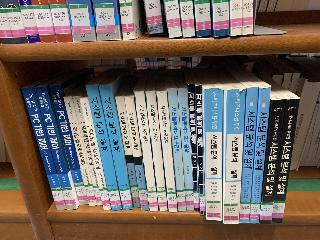book-spine: (21, 85, 67, 213), (34, 85, 77, 212), (49, 83, 89, 207), (86, 83, 122, 211), (99, 83, 134, 211), (268, 97, 300, 224), (64, 95, 97, 207), (79, 97, 111, 211), (258, 98, 285, 225), (247, 85, 271, 224), (72, 96, 102, 207), (222, 88, 246, 224), (134, 91, 159, 212), (237, 86, 259, 223), (115, 96, 141, 209), (145, 91, 168, 211), (125, 97, 149, 211), (203, 88, 223, 221), (157, 91, 178, 213), (168, 88, 186, 211), (177, 88, 195, 210), (188, 84, 200, 211), (195, 85, 205, 215)
